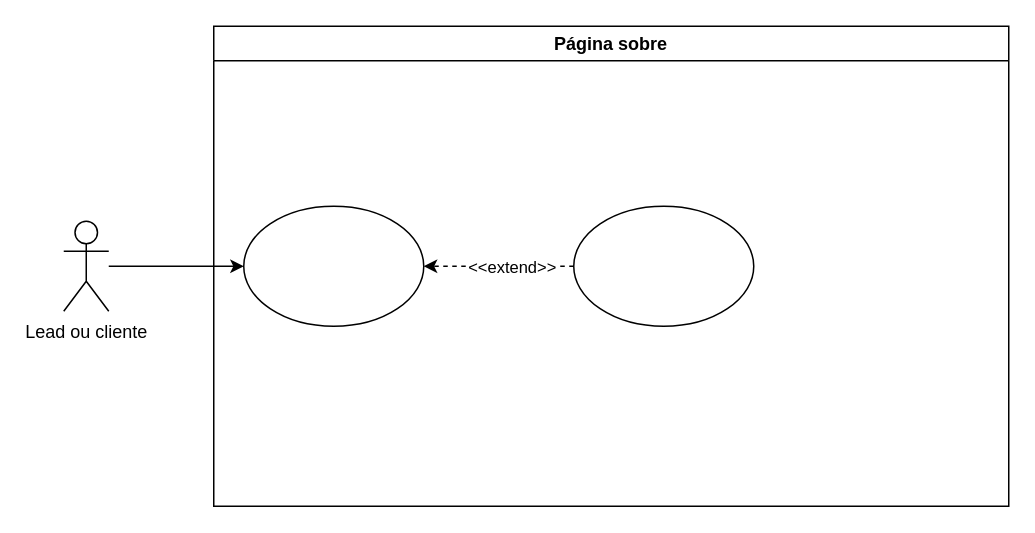
This 1035x533 diagram has some shape labels left out. The box of each missing label's shape, as (x1, y1, x2, y2) in pixels:
Acessar a página: (242, 205, 424, 326)
Visualizar Informações de contato: (572, 205, 754, 326)
